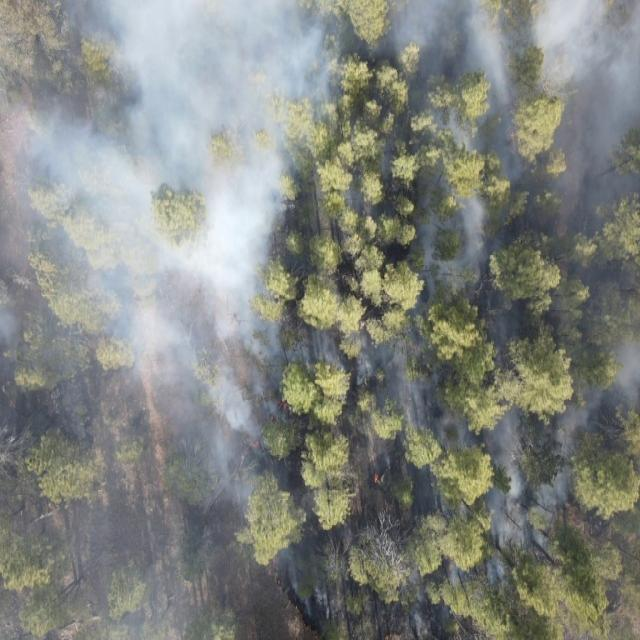fire: (268, 394, 291, 424), (247, 434, 262, 450), (370, 470, 382, 485)
smoke: (0, 0, 640, 640)
